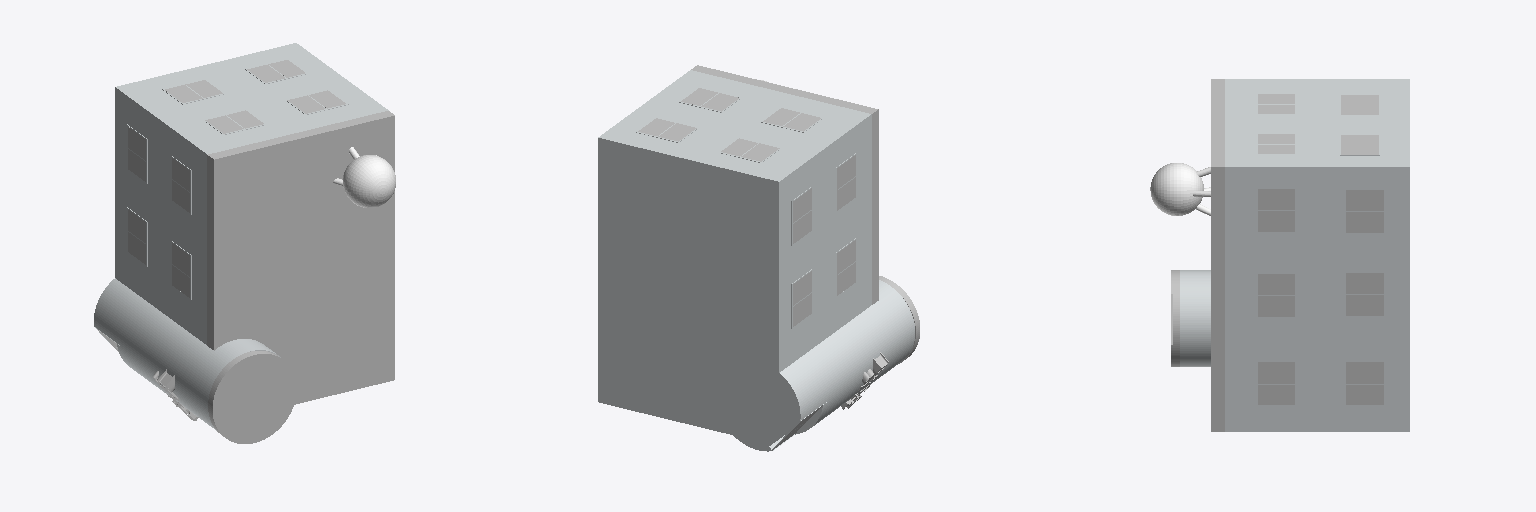
File: tinker 9.obj
3 renders of one model, left to right at view 1: azimuth 30°, elevation 25°; view 2: azimuth 150°, elevation 25°; view 3: azimuth 270°, elevation 25°, orthographic.
Parts seen in each view (by area): view 1: obj_6, obj_28, obj_8, obj_29, obj_0, obj_24, obj_25, obj_26, obj_27, obj_19, obj_21, obj_22 (+1 smaller); view 2: obj_28, obj_8, obj_6, obj_26, obj_25, obj_24, obj_27, obj_19, obj_22, obj_20, obj_21; view 3: obj_28, obj_6, obj_8, obj_0, obj_14, obj_15, obj_16, obj_17, obj_18, obj_23, obj_29, obj_19 (+3 smaller).
Boxes of the visible parts, <box> form: obj_6: <box>207,111,394,404</box>; obj_28: <box>115,43,388,344</box>; obj_8: <box>94,278,280,430</box>; obj_29: <box>208,351,295,443</box>; obj_0: <box>343,155,395,207</box>; obj_24: <box>171,156,191,214</box>; obj_25: <box>127,124,147,183</box>; obj_26: <box>127,207,147,266</box>; obj_27: <box>171,241,191,299</box>; obj_19: <box>286,90,348,114</box>; obj_21: <box>162,79,224,104</box>; obj_22: <box>245,59,307,83</box>; obj_28: <box>598,70,871,440</box>; obj_8: <box>716,280,914,451</box>; obj_6: <box>691,65,878,304</box>; obj_26: <box>791,269,812,328</box>; obj_25: <box>791,187,812,245</box>; obj_24: <box>836,153,856,212</box>; obj_27: <box>836,238,856,297</box>; obj_19: <box>679,87,741,112</box>; obj_22: <box>636,117,698,142</box>; obj_20: <box>761,107,823,132</box>; obj_21: <box>719,138,780,162</box>; obj_28: <box>1225,79,1409,431</box>; obj_6: <box>1211,79,1224,431</box>; obj_8: <box>1180,270,1210,366</box>; obj_0: <box>1150,163,1203,215</box>; obj_14: <box>1344,361,1384,405</box>; obj_15: <box>1256,188,1296,232</box>; obj_16: <box>1256,273,1296,317</box>; obj_17: <box>1344,189,1384,233</box>; obj_18: <box>1344,272,1384,316</box>; obj_23: <box>1256,361,1296,405</box>; obj_29: <box>1171,270,1179,366</box>; obj_19: <box>1256,134,1296,154</box>.
Size of the model in its own units: 50 by 63.72 by 53.25.